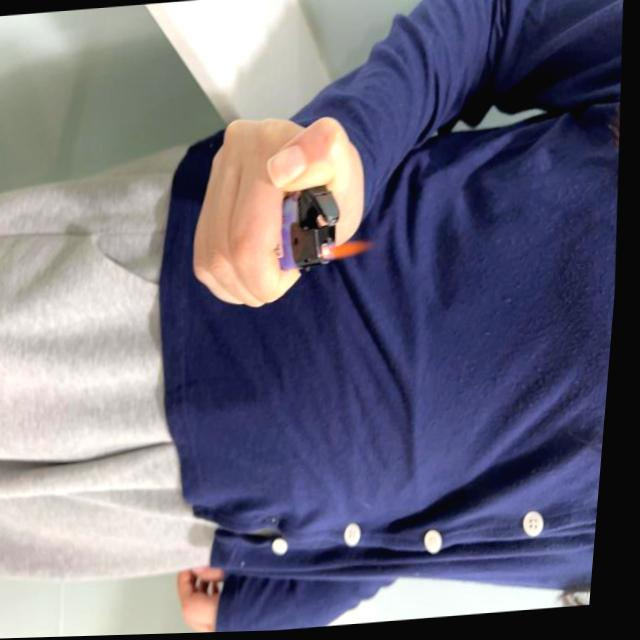helmet: (323, 240, 378, 265)
